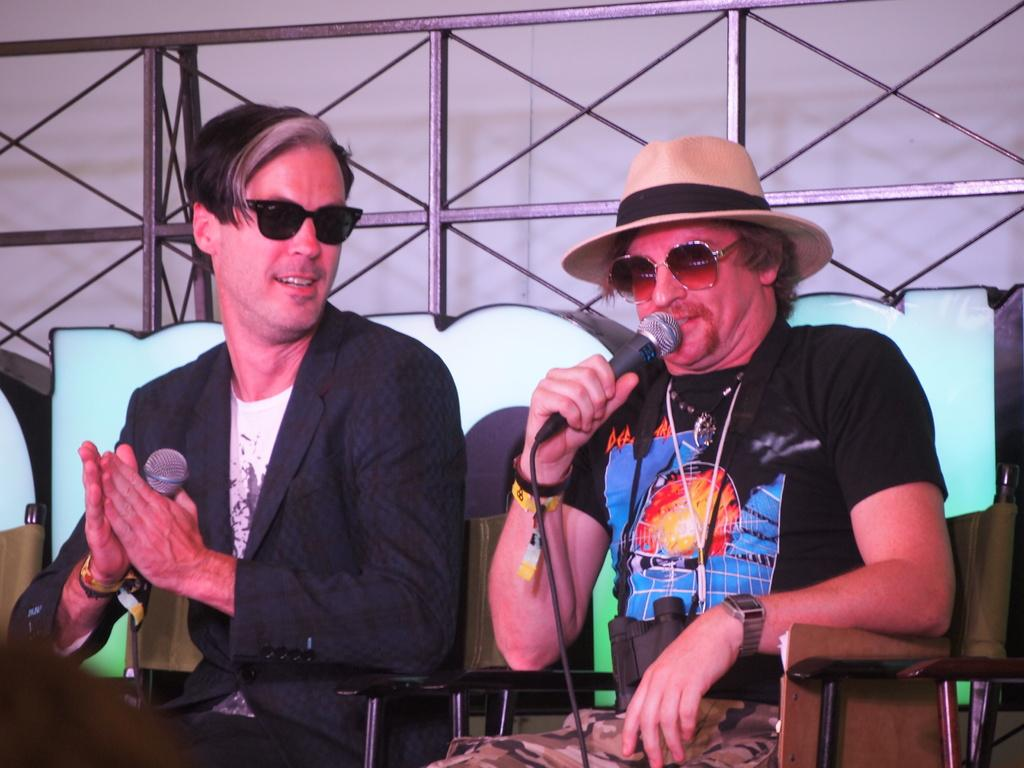Hat: (559, 132, 832, 291)
